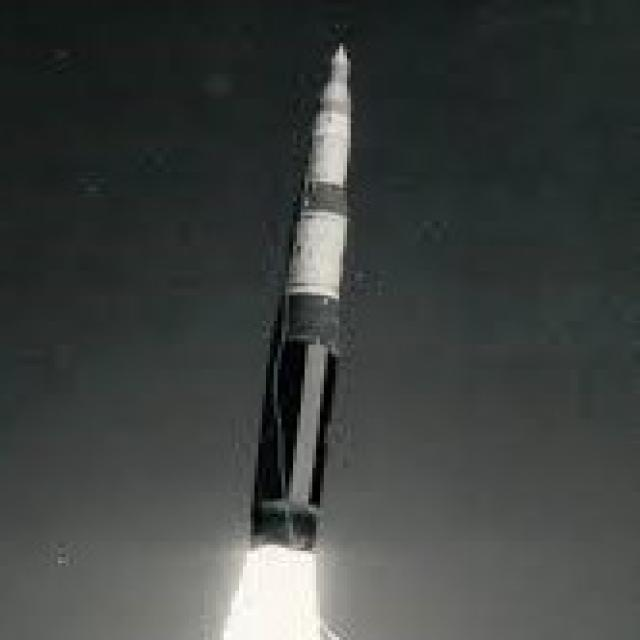missile: (252, 38, 361, 552)
